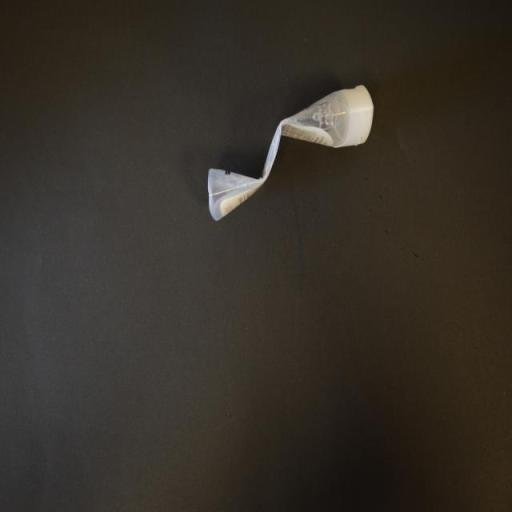plastic: (204, 82, 377, 229)
